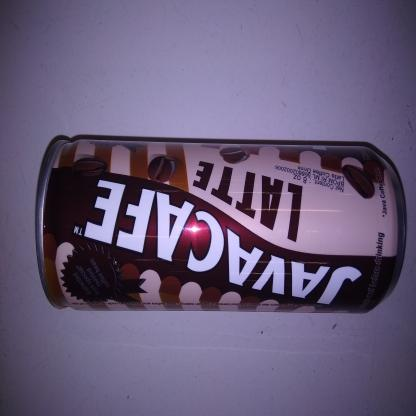bottle: (29, 127, 412, 320)
